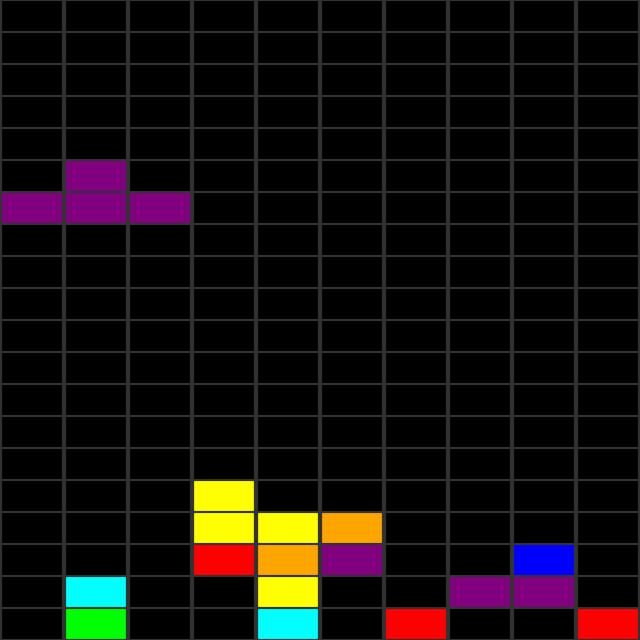Tetrimino_J: (0, 159, 192, 223)
